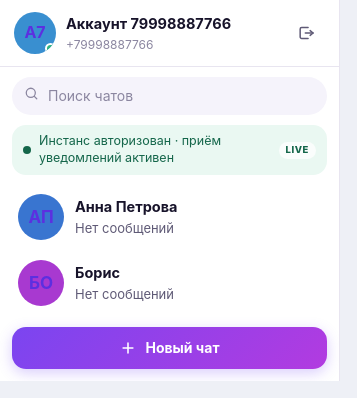
it: ChatSidebar › фильтрует чаты по поисковому запросу
In the search field labelled "Поиск чатов": {"x": 170, "y": 96} [12,77,327,115], type "анна"
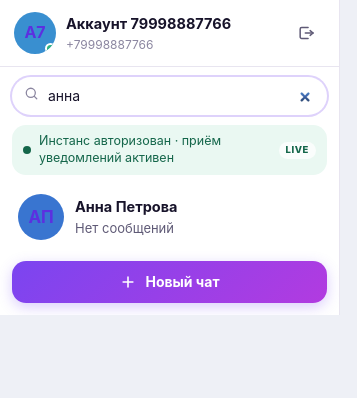
Expected: the text "Анна Петрова" is shown, [75,198,178,215]
Now the button "Борис" is gone
